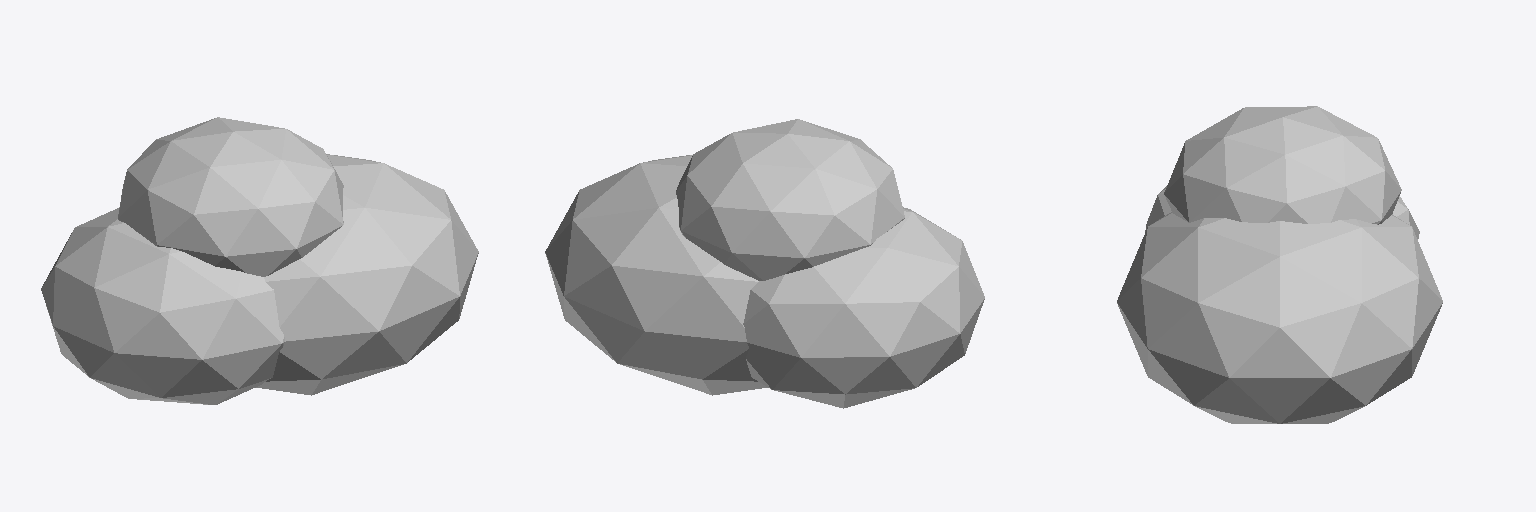
The model's file is bush3.obj.
3 views of the same model, side by side, from view 1: azimuth 30°, elevation 25°; view 2: azimuth 150°, elevation 25°; view 3: azimuth 270°, elevation 25° (orthographic).
Visible parts, largest first — view 1: bush3_Icosphere.009; view 2: bush3_Icosphere.009; view 3: bush3_Icosphere.009.
Boxes of the visible parts, x1=… form: bush3_Icosphere.009: x1=41, y1=117, x2=478, y2=404; bush3_Icosphere.009: x1=545, y1=119, x2=984, y2=408; bush3_Icosphere.009: x1=1117, y1=106, x2=1442, y2=423.
Size of the model in its own units: 2.39 by 1.48 by 1.71.